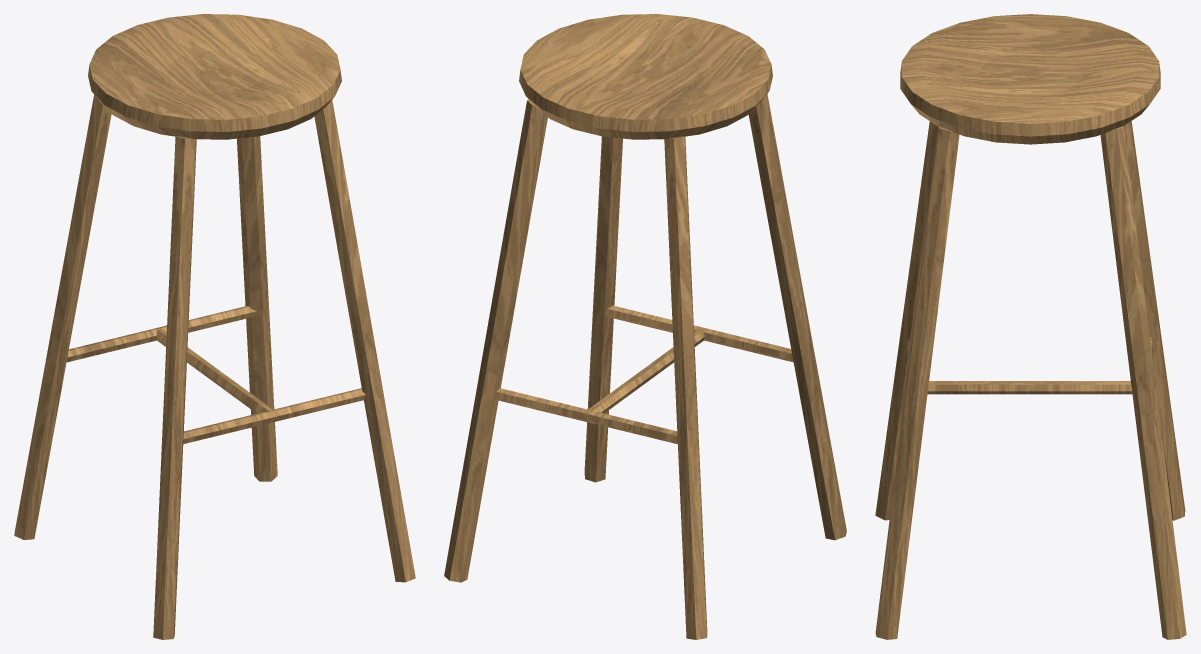
Rendered from oak.glb.
3 renders of one model, left to right at view 1: azimuth 30°, elevation 25°; view 2: azimuth 150°, elevation 25°; view 3: azimuth 270°, elevation 25°, orthographic. The views are drawn at different scales.
Visible parts, largest first — view 1: oak; view 2: oak; view 3: oak.
Part boxes in pixels (<box>): oak: <box>14,14,415,639</box>; oak: <box>444,14,846,639</box>; oak: <box>875,14,1186,639</box>.
Size of the model in its own units: 0.4227 by 0.7627 by 0.4214.
1 material, 1 textured.
